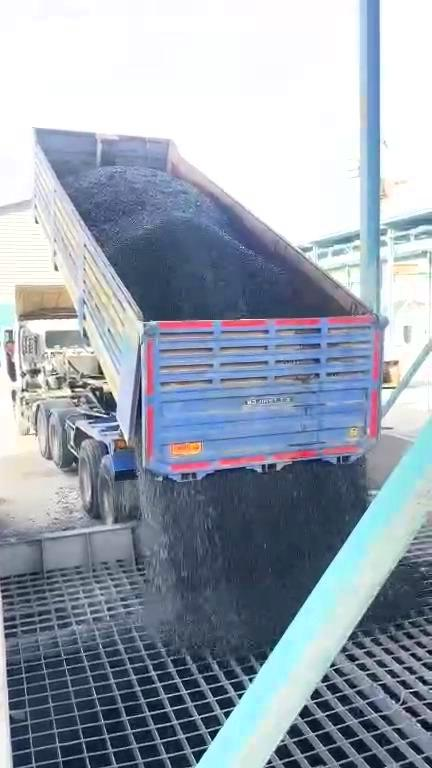gravel: (142, 462, 367, 654), (65, 167, 343, 319), (362, 564, 428, 625)
